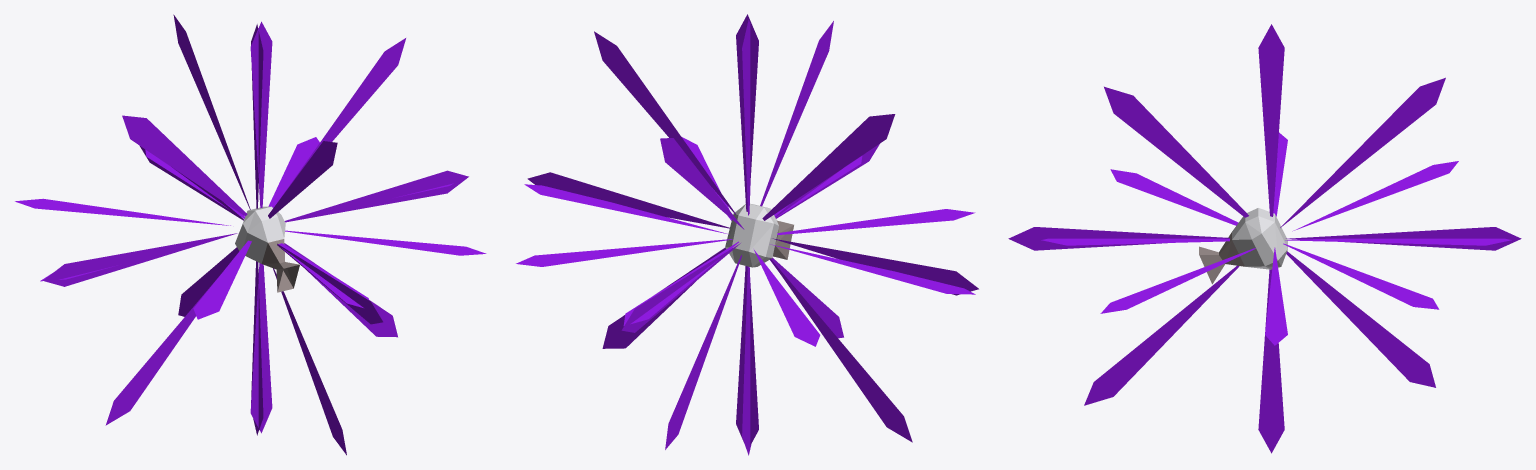
Rendered from gfx_152.obj.
The picture shows the model from 3 angles, left to right: view 1: azimuth 30°, elevation 25°; view 2: azimuth 150°, elevation 25°; view 3: azimuth 270°, elevation 25°; orthographic projection. The views are drawn at different scales.
Size of the model in its own units: 1.22 by 1.13 by 1.22.
